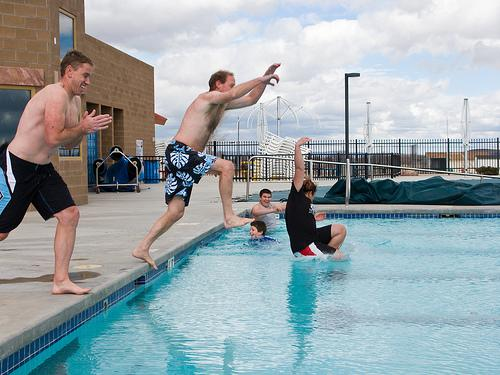swimmer: (284, 134, 352, 268), (249, 188, 282, 222), (246, 216, 272, 246)
